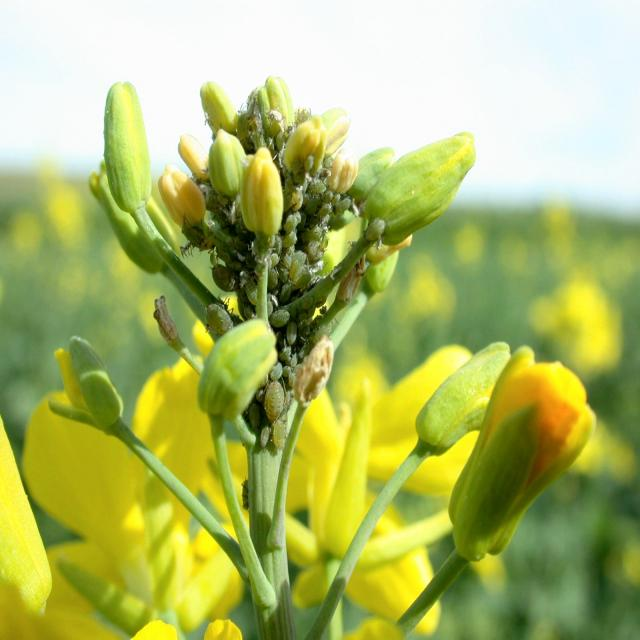Aphid-Grouped-: (210, 81, 362, 428)
